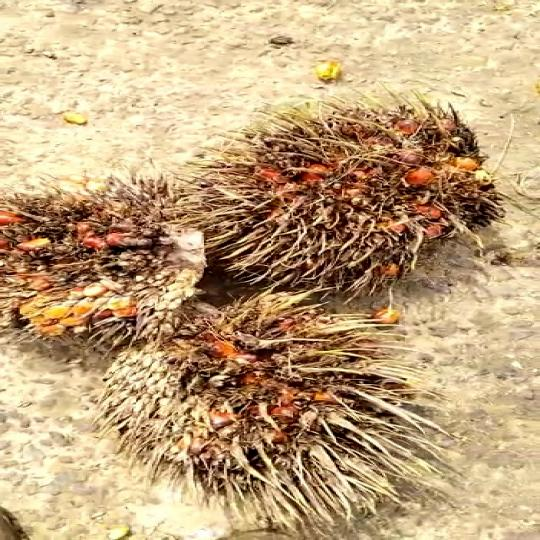terlalu masak: (99, 306, 440, 493), (154, 100, 492, 282), (0, 172, 222, 343)
